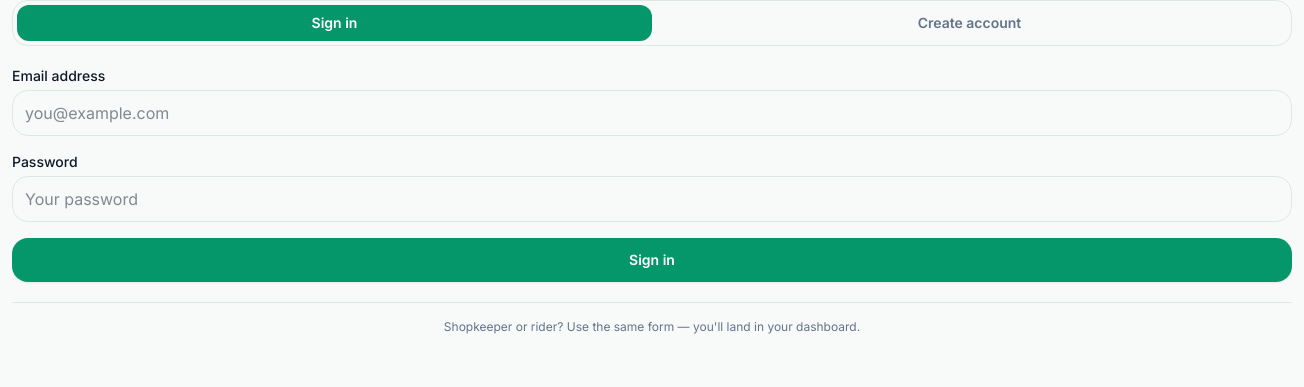
it: LoginFlow — sign in › shows wrong-credentials copy with a signup link
Type "user@example.com" into the field labelled "Email address" at (652, 113), box [12,90,1292,136]
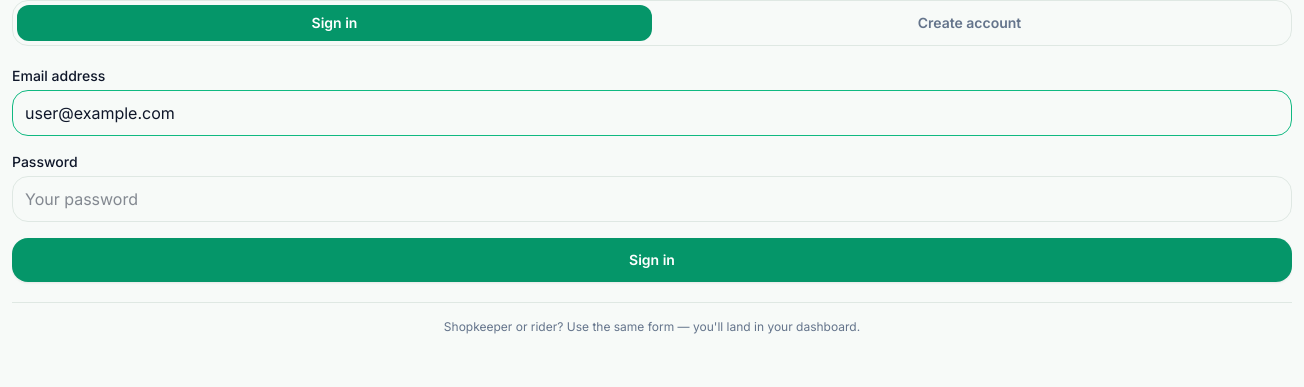
Type "wrongpass" into the password field labelled "Password" at (652, 199), box [12,176,1292,222]
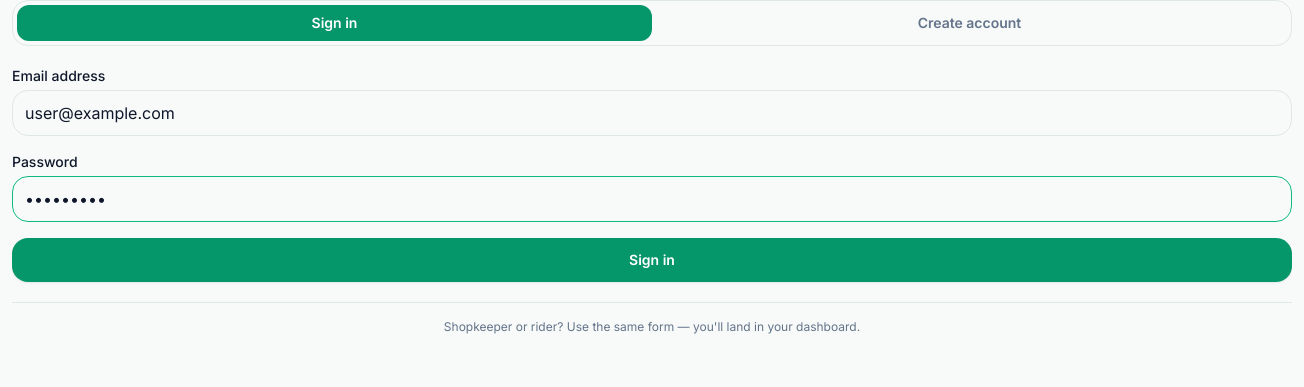
Click the button "Sign in" at (652, 260), box [12,238,1292,282]
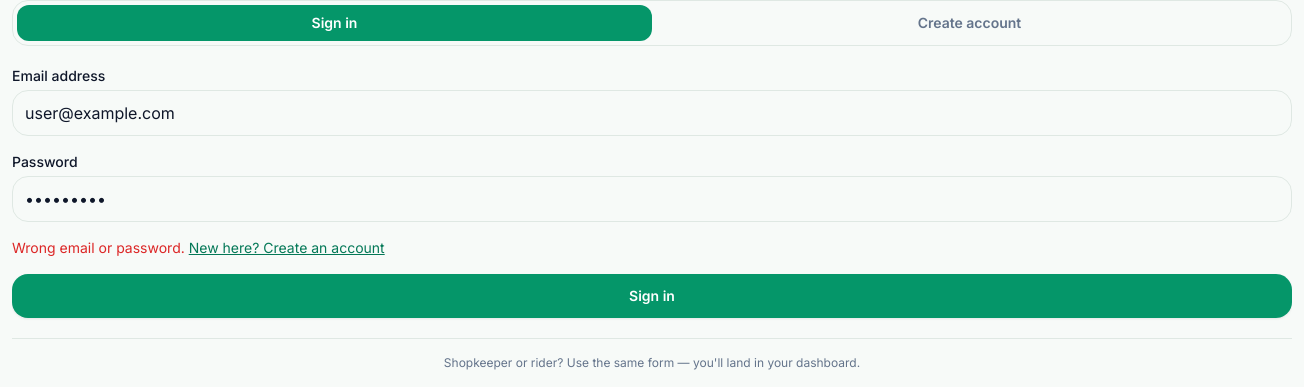
Expected: the message shows "Wrong email or password", [12,239,185,256]
Expected: the button "New here? Create an account" is shown, [189,238,385,258]
